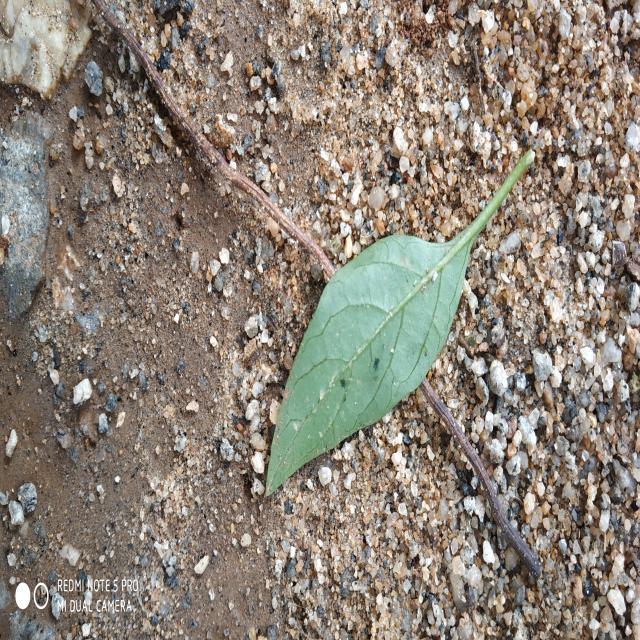ganike: (266, 151, 534, 493)
